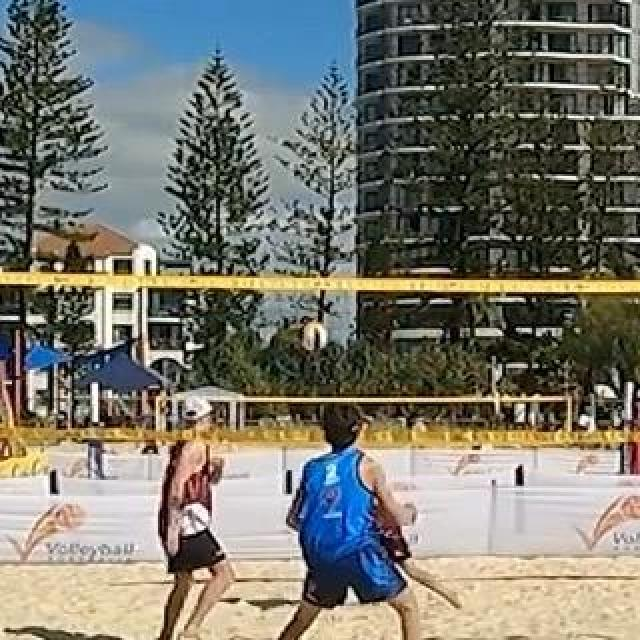volleyball: (300, 324, 328, 354)
